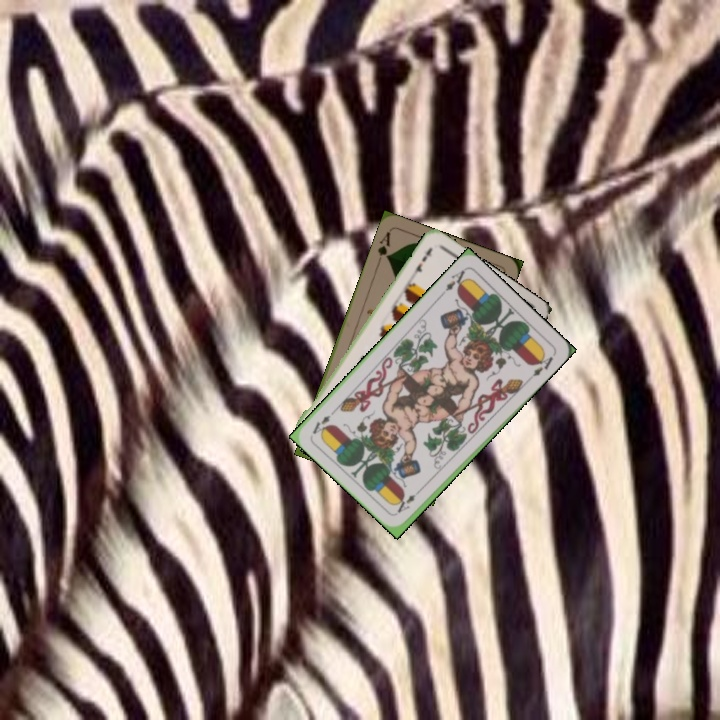E7: (408, 243, 435, 280)
EA: (437, 266, 470, 299), (393, 484, 425, 515)
GA: (373, 227, 393, 267)
